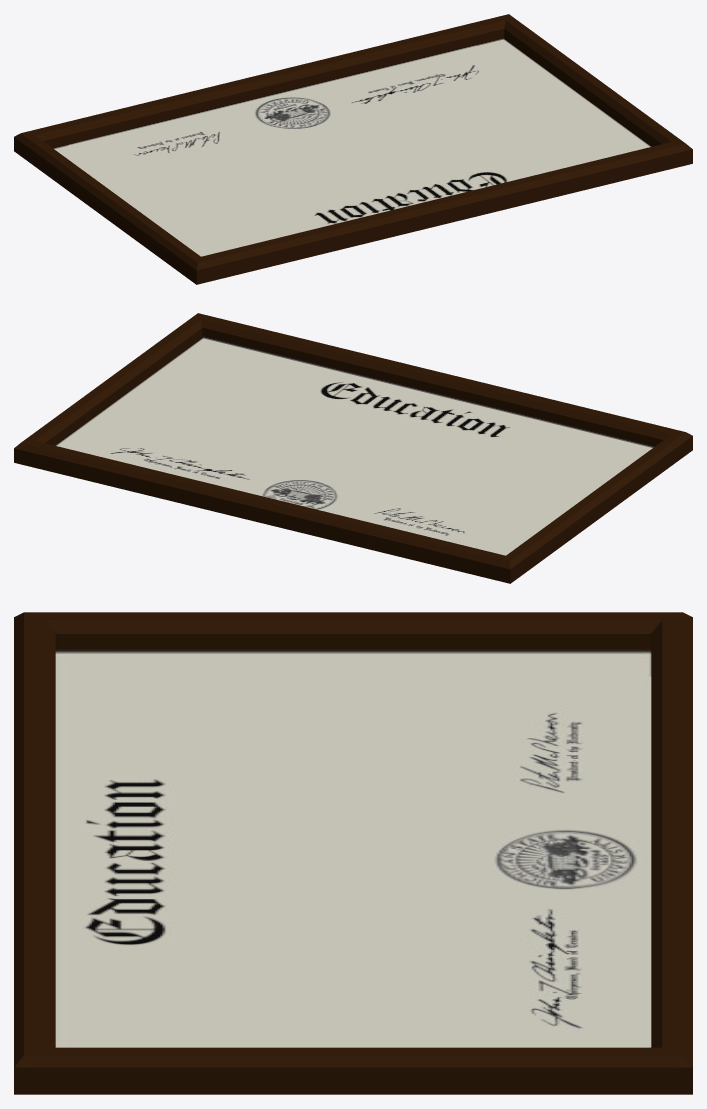
Rendered from diploma.glb.
3 views of the same model, one above another, from view 1: azimuth 30°, elevation 25°; view 2: azimuth 150°, elevation 25°; view 3: azimuth 270°, elevation 25° (orthographic). The views are drawn at different scales.
Visible parts, largest first — view 1: Diploma.003; view 2: Diploma.003; view 3: Diploma.003.
Boxes of the visible parts, x1=… form: Diploma.003: x1=14, y1=14, x2=692, y2=284; Diploma.003: x1=14, y1=313, x2=692, y2=583; Diploma.003: x1=14, y1=612, x2=692, y2=1094.
Bounding box in the file's own units: 0.6989 × 0.0255 × 0.4452.
Materials: 1 (1 with a texture image).
